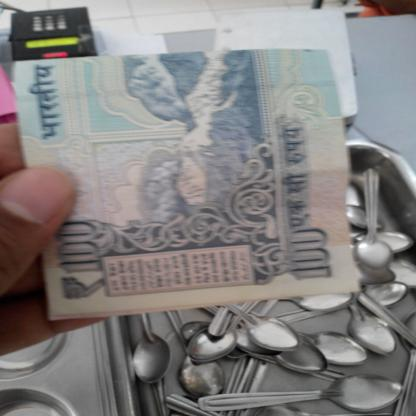Old100Back: (12, 48, 367, 322)
